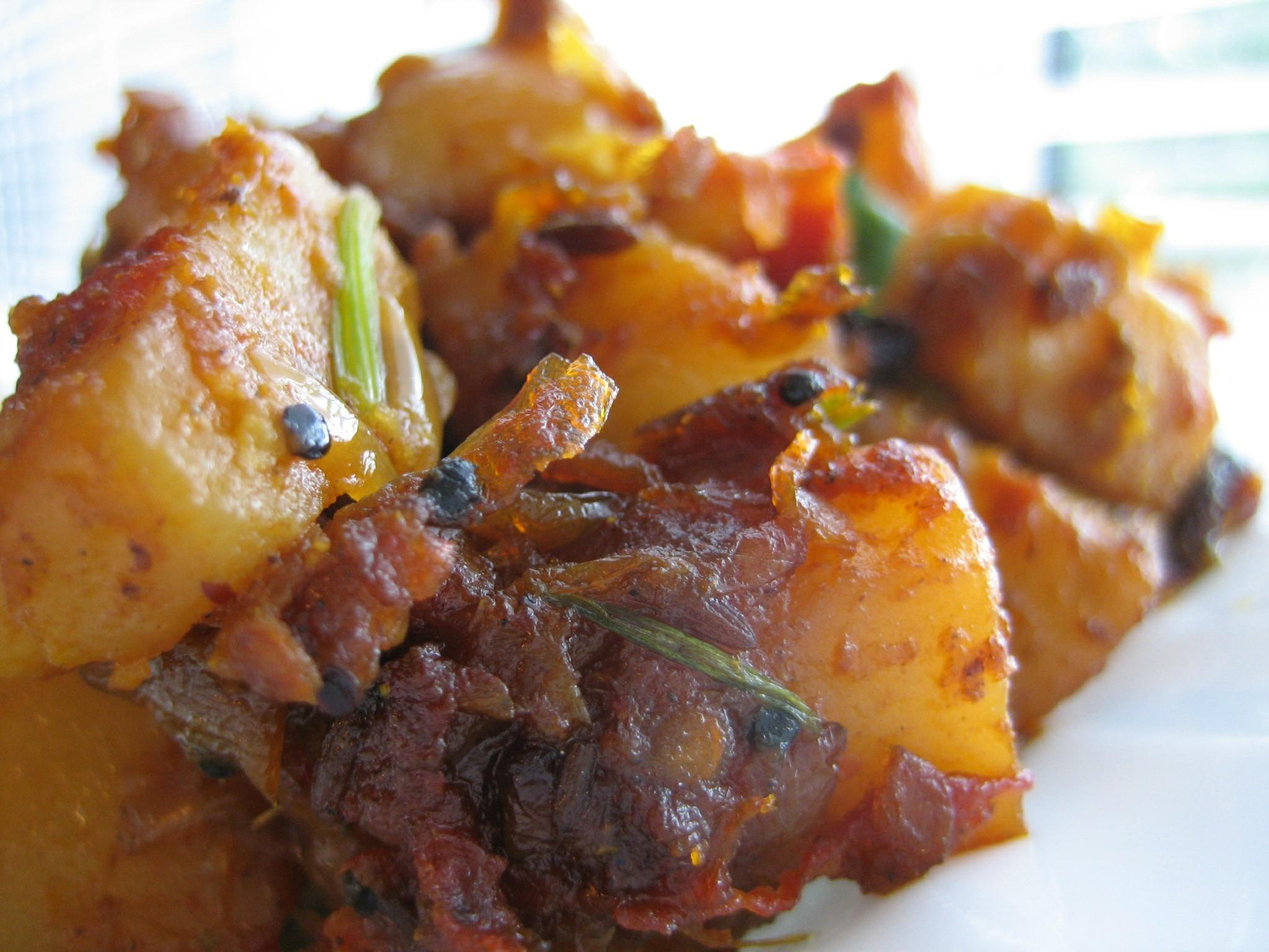AlooMasala: (0, 0, 1265, 952)
